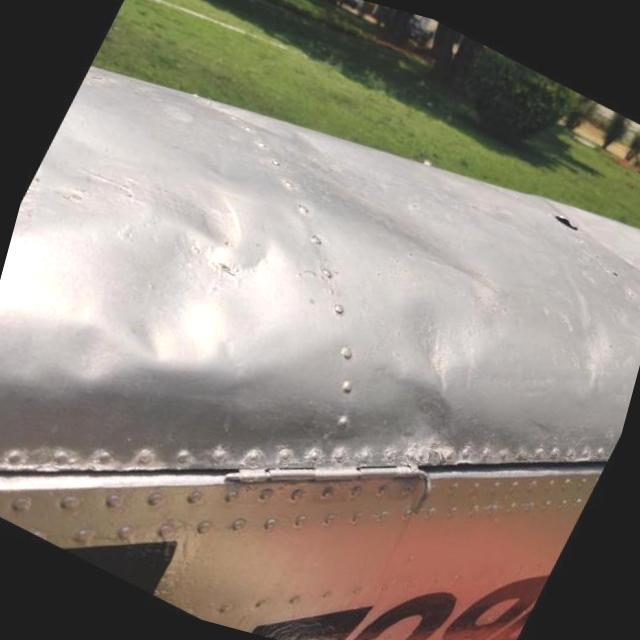dent: (54, 152, 344, 430), (290, 154, 499, 278), (368, 264, 512, 414)
